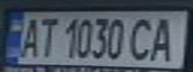0: (106, 15, 130, 61), (75, 15, 93, 60)
1: (60, 15, 78, 58)
3: (90, 15, 112, 60)
A: (145, 14, 184, 63), (15, 15, 45, 58)
C: (127, 15, 160, 63)
T: (33, 15, 60, 58)
